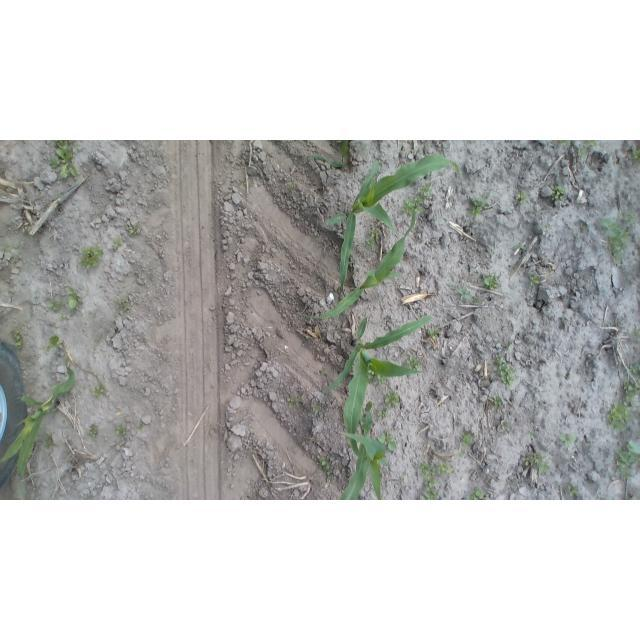Maize: (326, 154, 462, 299), (325, 314, 434, 454), (320, 206, 418, 327), (2, 366, 77, 482), (327, 401, 389, 500), (302, 142, 356, 170)
Weeds: (602, 214, 635, 259), (51, 141, 81, 180), (419, 463, 450, 500), (617, 440, 640, 480), (403, 184, 434, 213), (493, 353, 516, 390), (525, 451, 550, 474), (610, 405, 631, 430), (80, 245, 103, 267), (377, 431, 397, 451), (109, 297, 132, 314), (66, 287, 81, 310), (365, 229, 381, 248), (481, 274, 499, 290), (472, 200, 485, 221), (319, 457, 333, 476), (462, 430, 477, 447), (559, 433, 577, 447), (43, 435, 59, 450), (385, 392, 400, 408), (286, 394, 302, 409), (93, 382, 108, 398), (457, 287, 474, 301), (551, 185, 565, 202), (47, 335, 62, 350), (285, 181, 299, 196), (114, 423, 128, 437), (406, 355, 420, 369), (472, 487, 487, 500), (424, 328, 440, 340), (515, 189, 528, 203), (569, 483, 580, 499), (4, 242, 20, 253), (48, 299, 61, 312), (88, 424, 99, 439), (631, 144, 640, 162), (512, 241, 525, 253), (624, 381, 631, 403), (14, 331, 23, 348), (112, 236, 122, 250), (492, 397, 504, 408), (128, 224, 138, 237), (529, 275, 541, 285), (377, 409, 387, 420), (575, 147, 585, 158), (556, 140, 573, 146), (500, 419, 508, 430), (528, 431, 537, 440), (312, 403, 320, 412), (136, 420, 144, 428), (585, 141, 597, 146)
